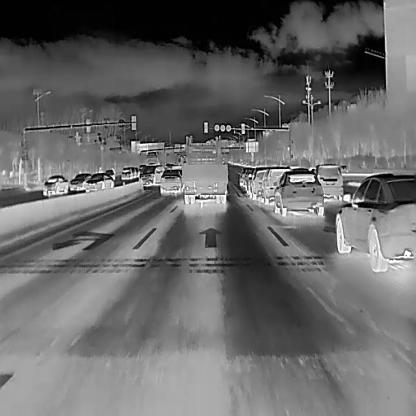car: (334, 172, 415, 273), (182, 142, 228, 204), (271, 170, 324, 217), (261, 166, 292, 204), (313, 163, 344, 199), (251, 166, 272, 199), (158, 167, 181, 195), (40, 174, 69, 195), (84, 171, 113, 191), (138, 164, 164, 186), (70, 170, 92, 192), (101, 168, 115, 181), (120, 166, 132, 180)
